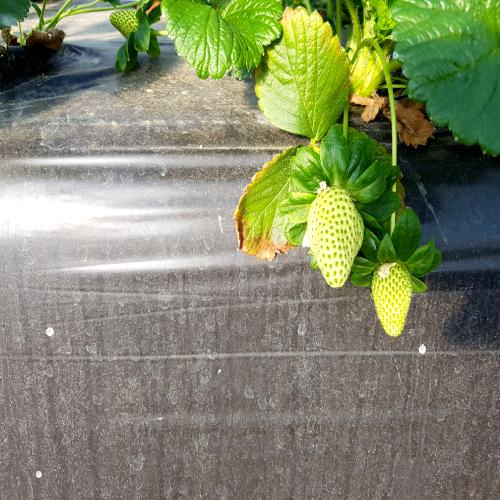unripe: (310, 173, 370, 297), (369, 254, 424, 344)
